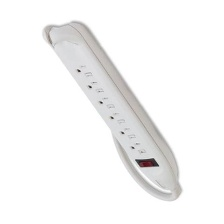three_eye_plug: (44, 18, 182, 196)
